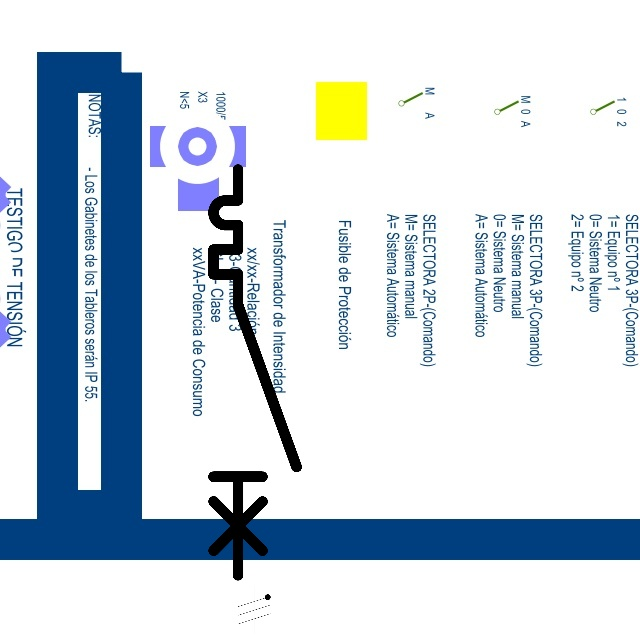interruptor_termomagnetico: (203, 159, 307, 586)
